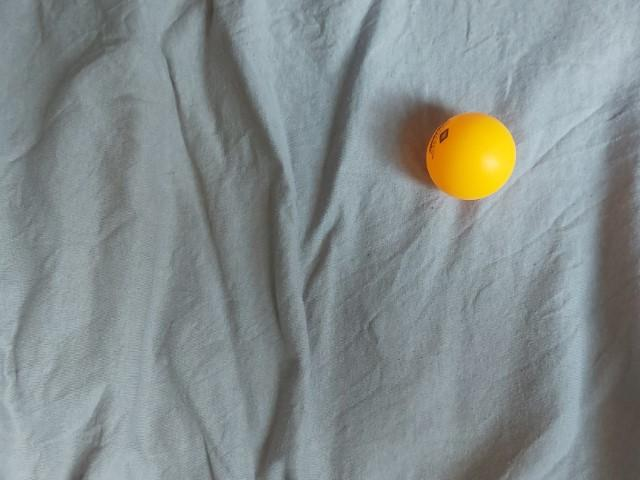oball: (118, 277, 221, 377)
